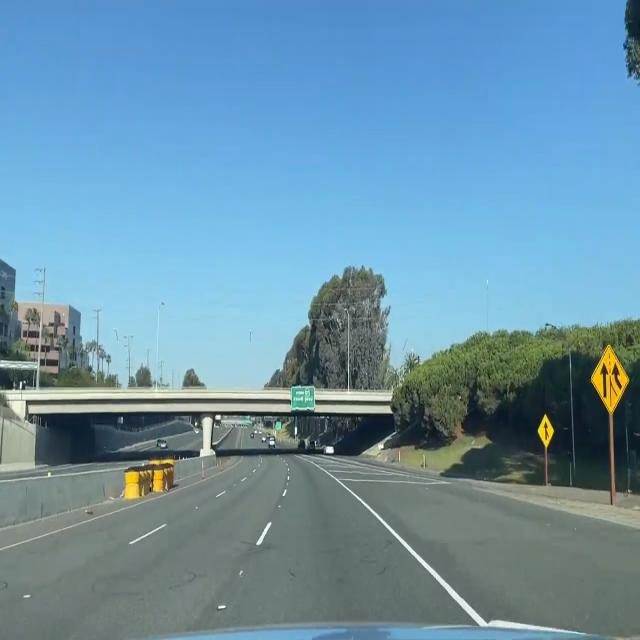street-signs: (290, 384, 316, 410), (275, 420, 282, 431)
